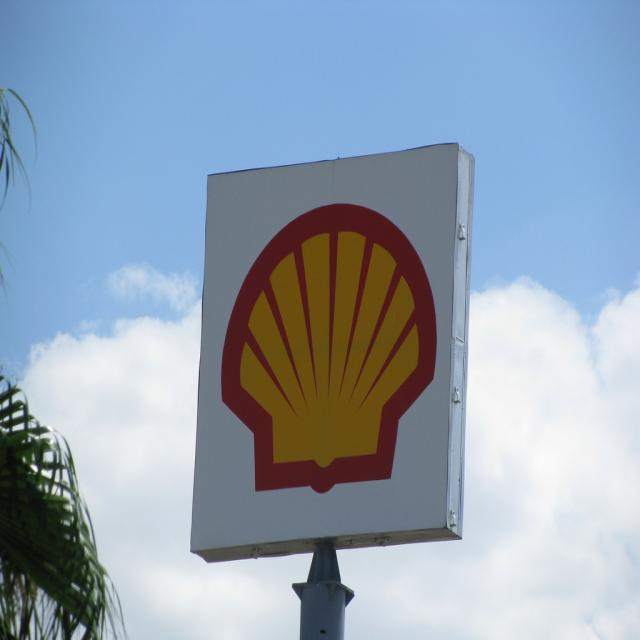shell: (219, 202, 439, 494)
